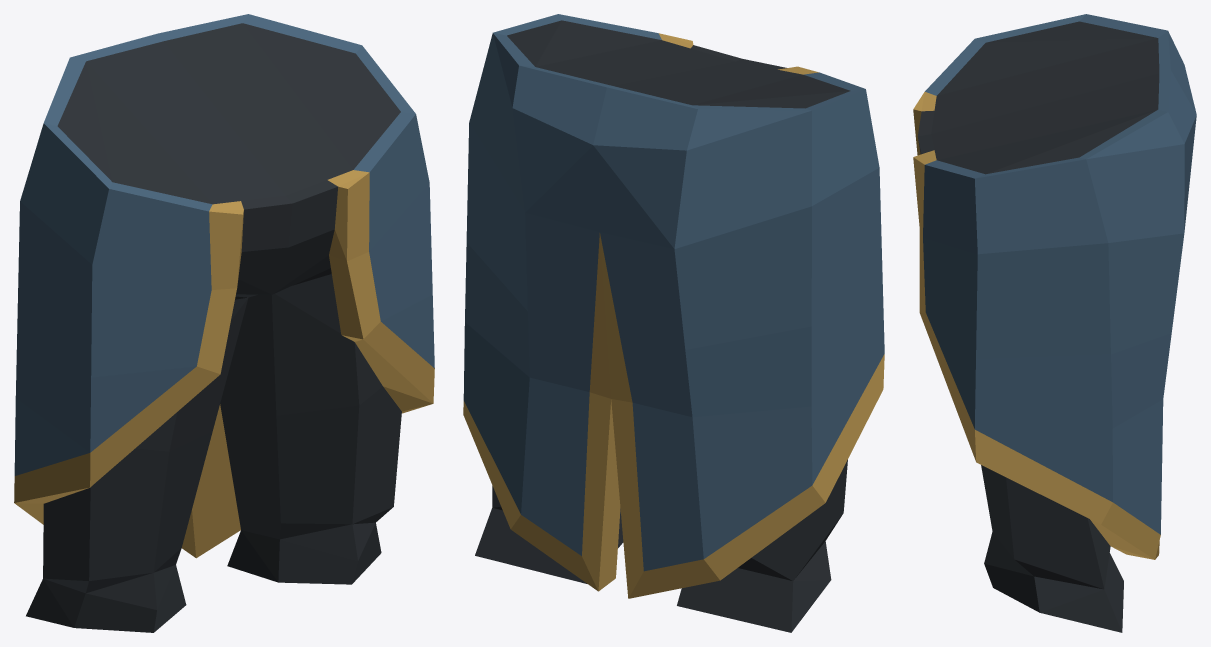
File: Chr_Hips_Male_07_Static.fbx
3 renders of one model, left to right at view 1: azimuth 30°, elevation 25°; view 2: azimuth 150°, elevation 25°; view 3: azimuth 270°, elevation 25°, orthographic. The views are drawn at different scales.
Parts seen in each view (by area): view 1: Chr_Hips_Male_07_Static; view 2: Chr_Hips_Male_07_Static; view 3: Chr_Hips_Male_07_Static.
Boxes of the visible parts, x1=… form: Chr_Hips_Male_07_Static: x1=14, y1=14, x2=434, y2=632; Chr_Hips_Male_07_Static: x1=463, y1=14, x2=884, y2=632; Chr_Hips_Male_07_Static: x1=913, y1=14, x2=1196, y2=632.
Size of the model in its own units: 0.3999 by 0.5545 by 0.2905.
